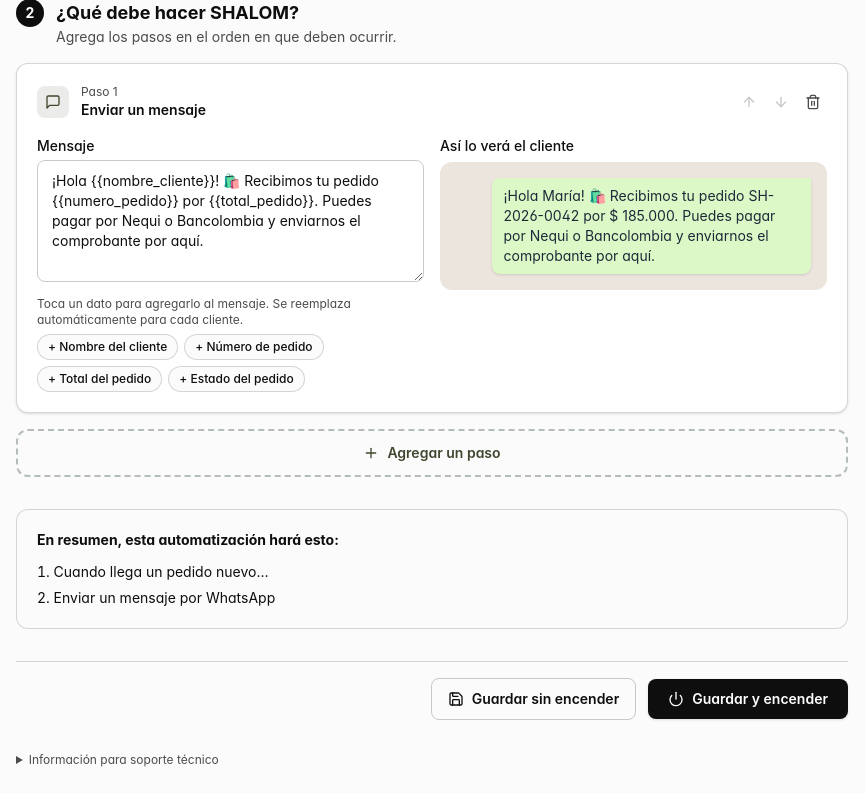
Test: FlowBuilderPage › stays open and explains the problem when the server cannot save
(page scrolled)
Click the button "Guardar y encender".
click(748, 699)  # box [648,679,848,719]
(page scrolled)
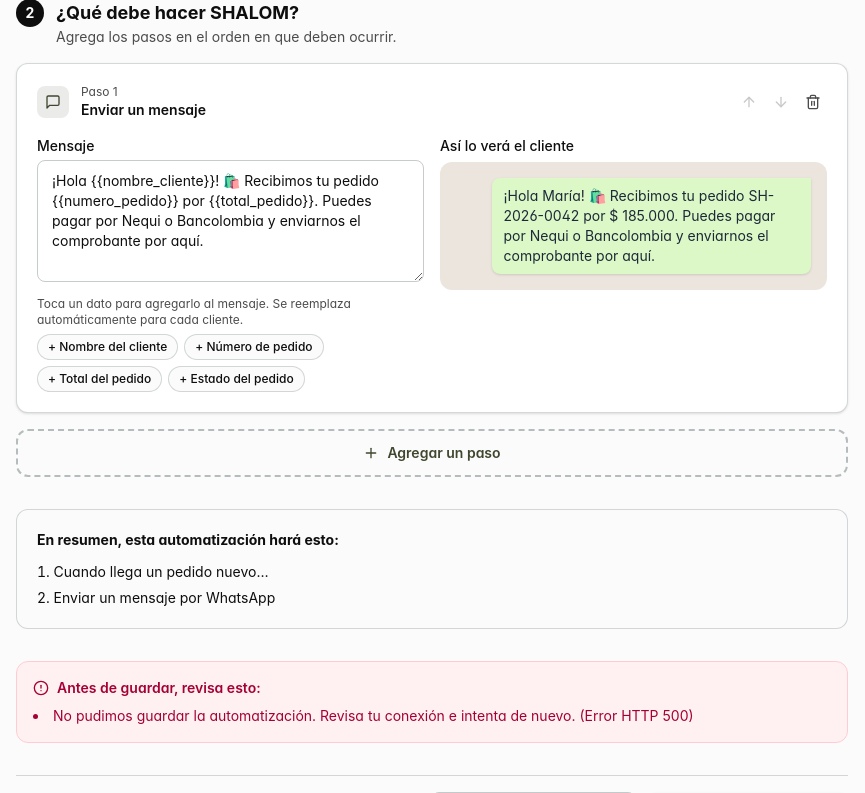
Now the message shows "No pudimos guardar la automatización", box [53,707,694,724]
